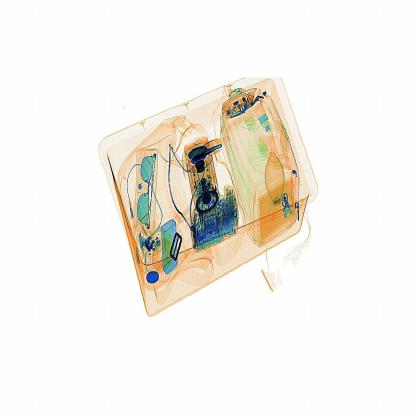pliers: (196, 139, 223, 160)
